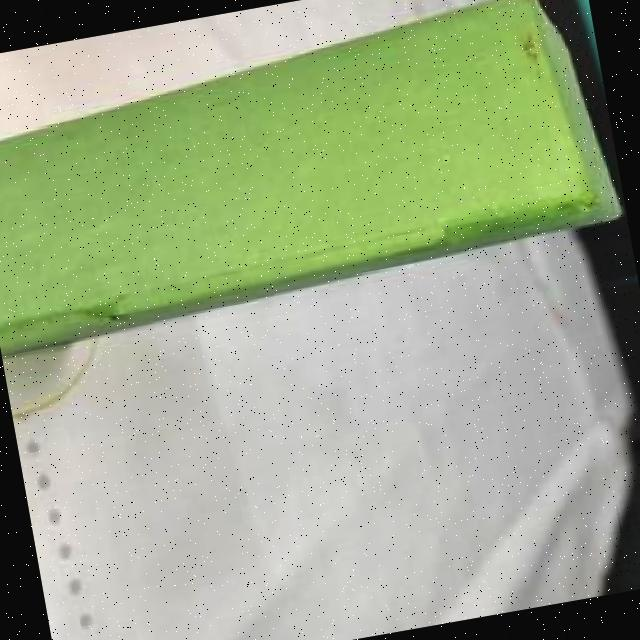greenbox: (0, 0, 627, 343)
